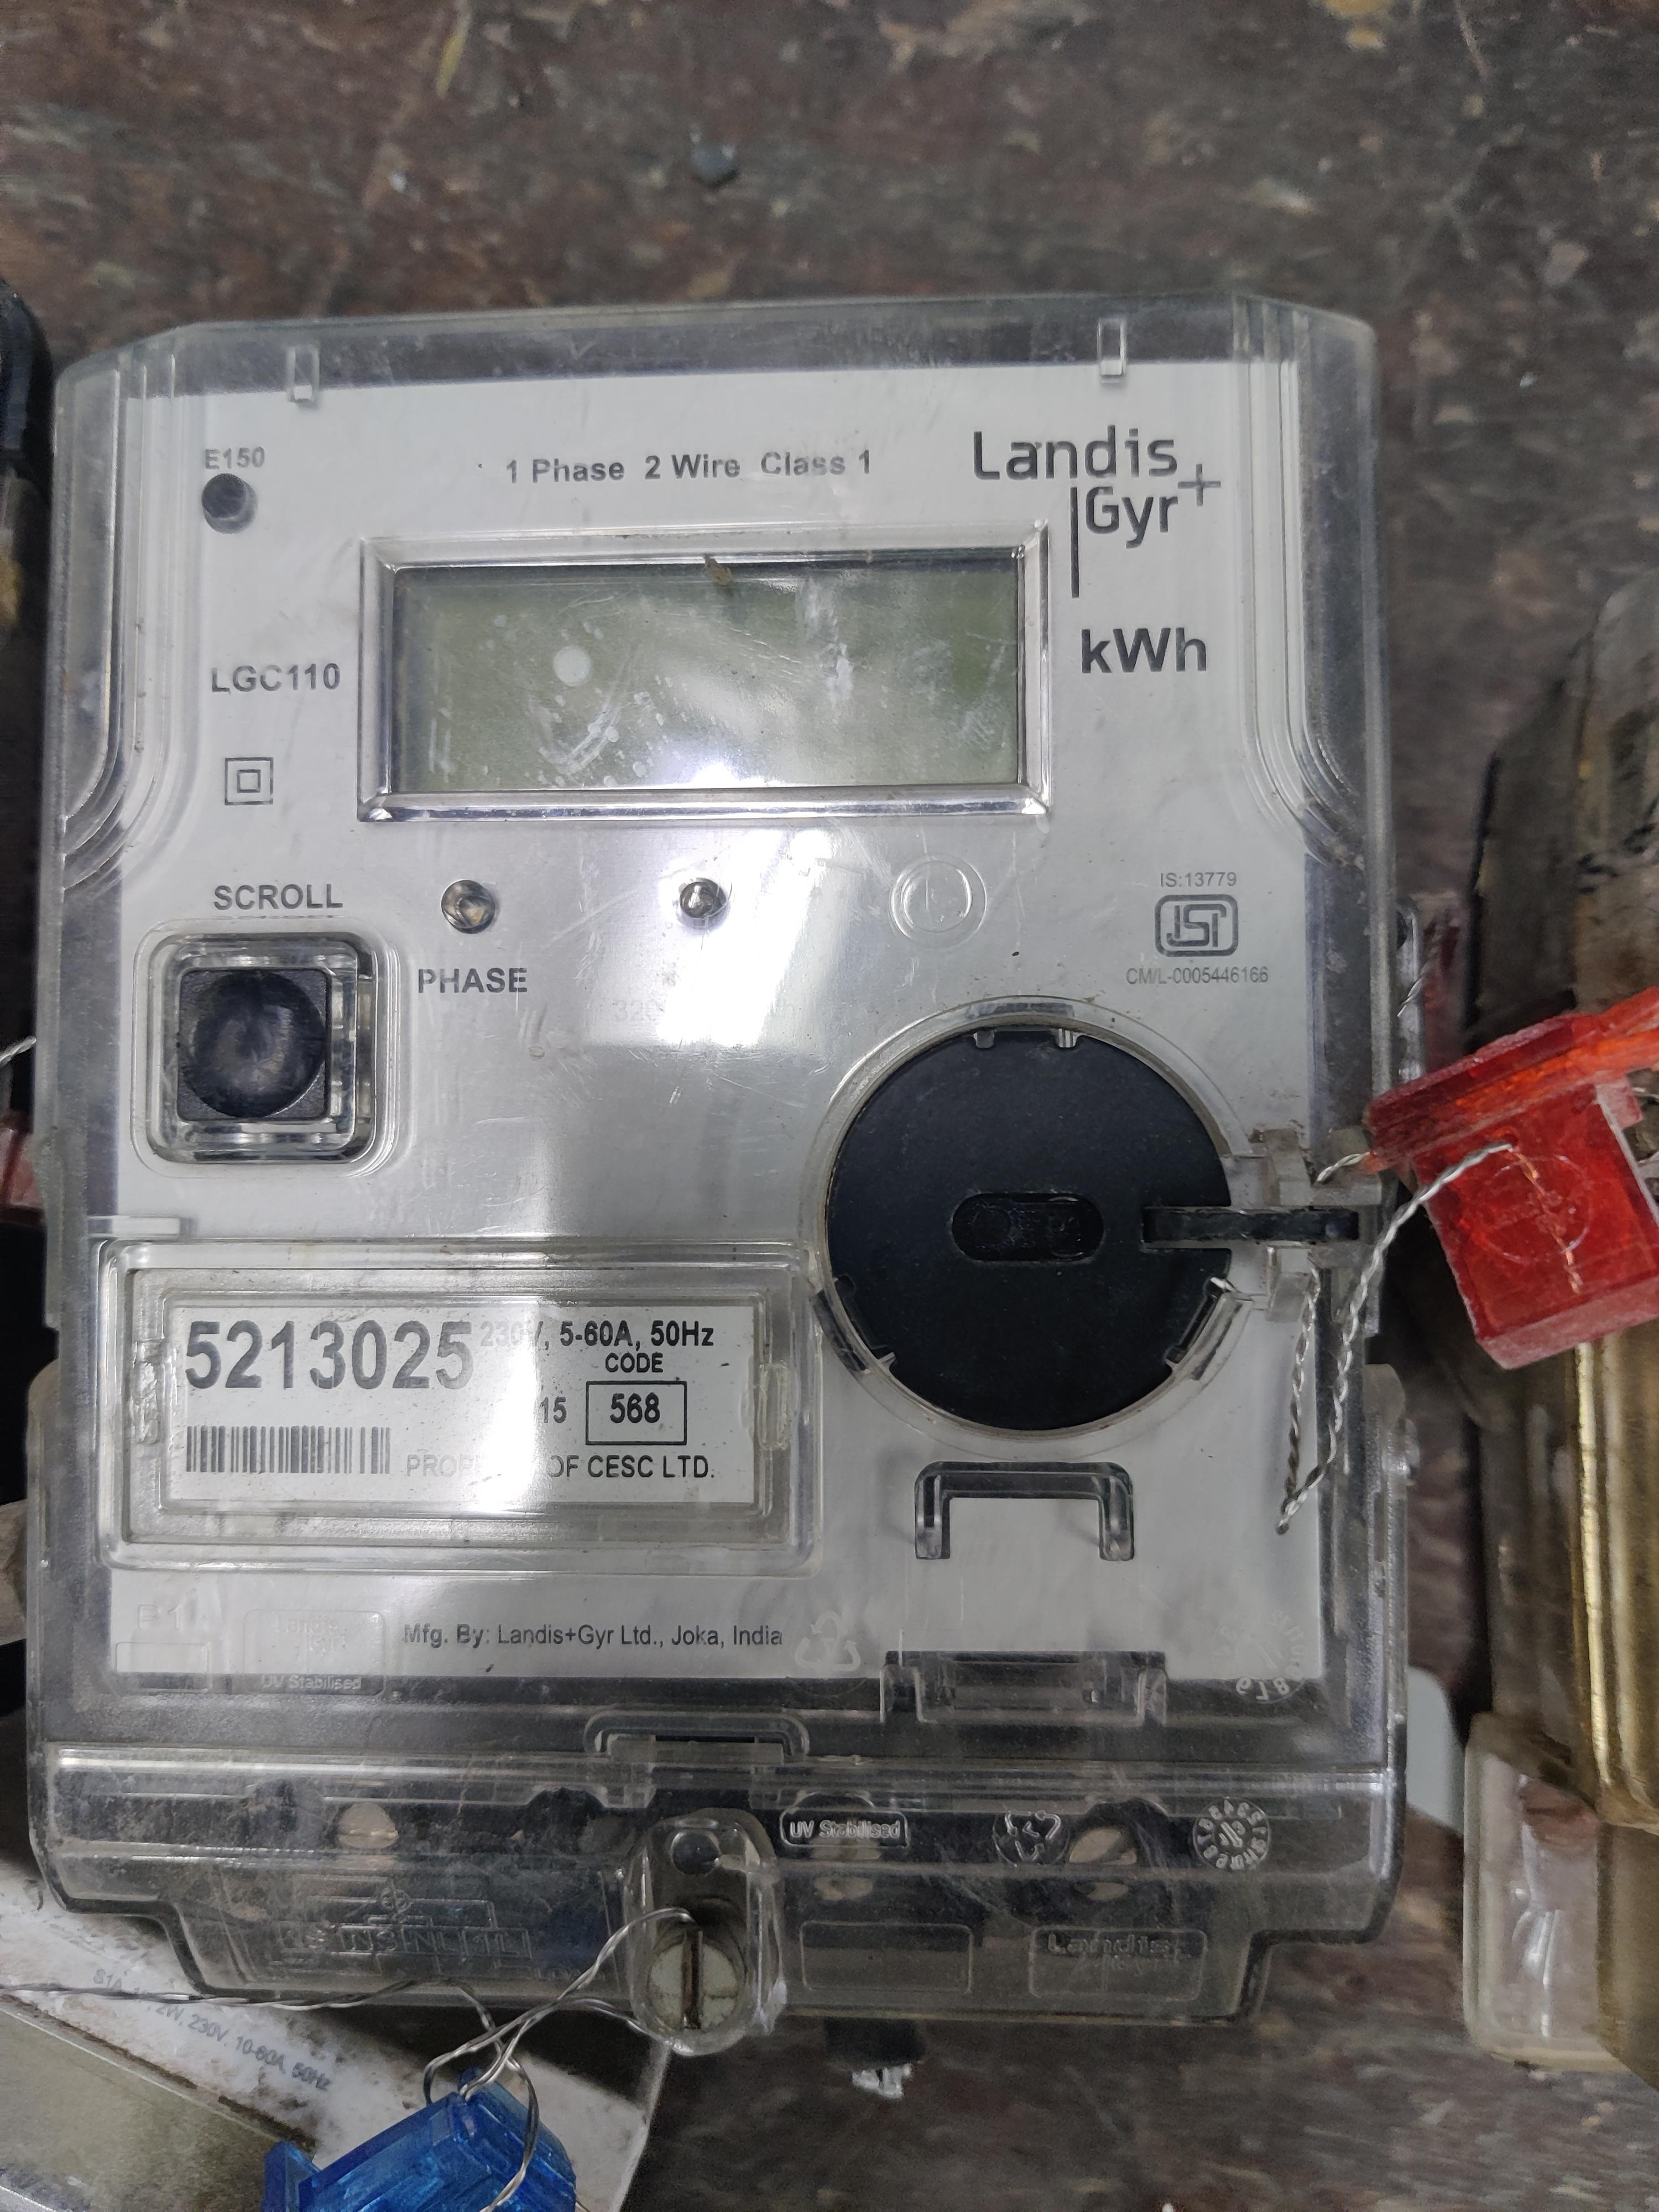meter_readings: (403, 577, 1030, 779)
serial_number: (173, 1306, 502, 1404)
